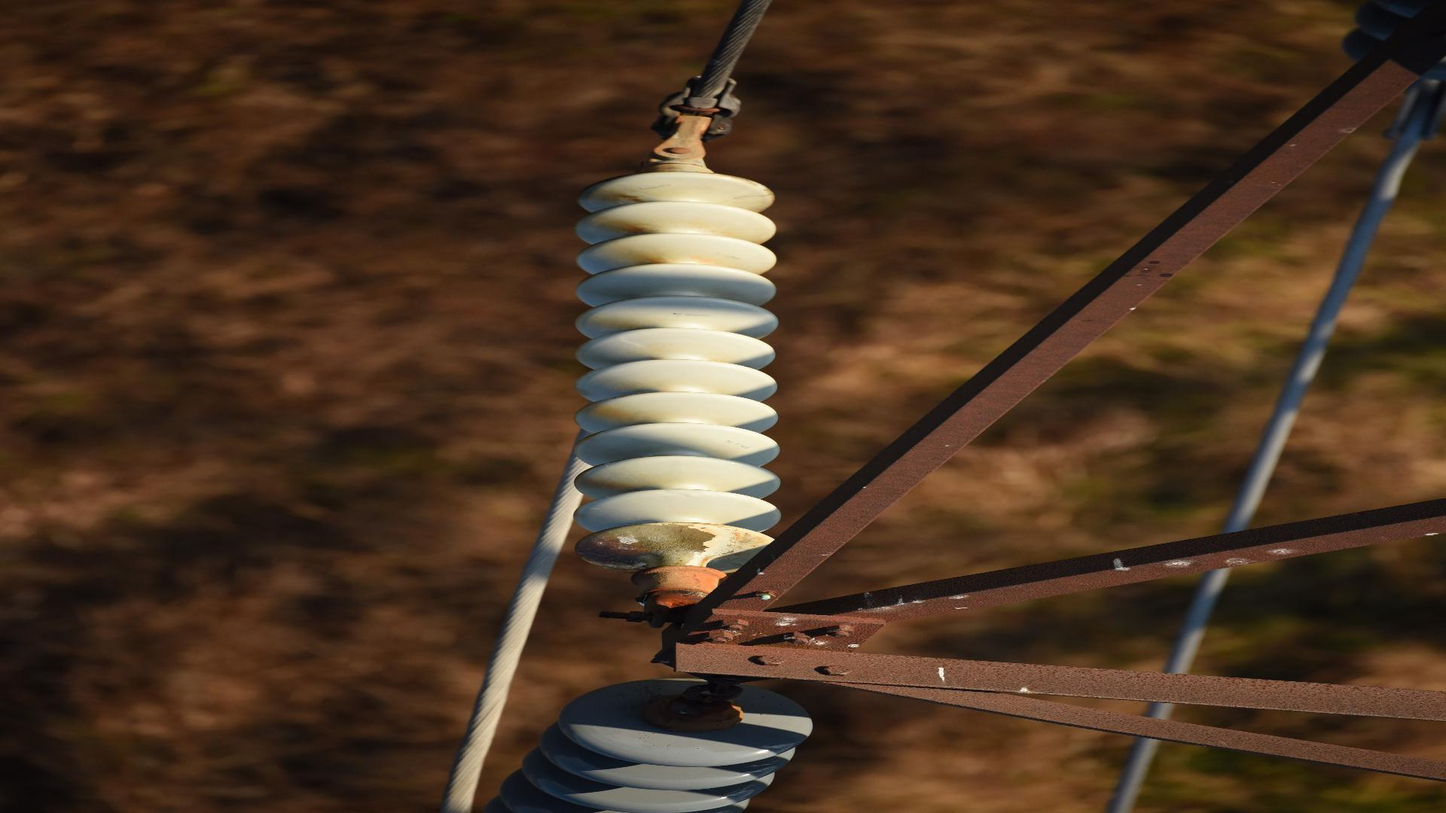insulator: (560, 166, 790, 579), (481, 677, 818, 813)
insulator_flashover: (572, 519, 715, 572)
